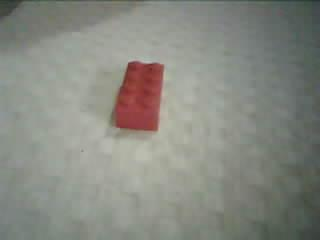lego: (112, 61, 164, 132)
